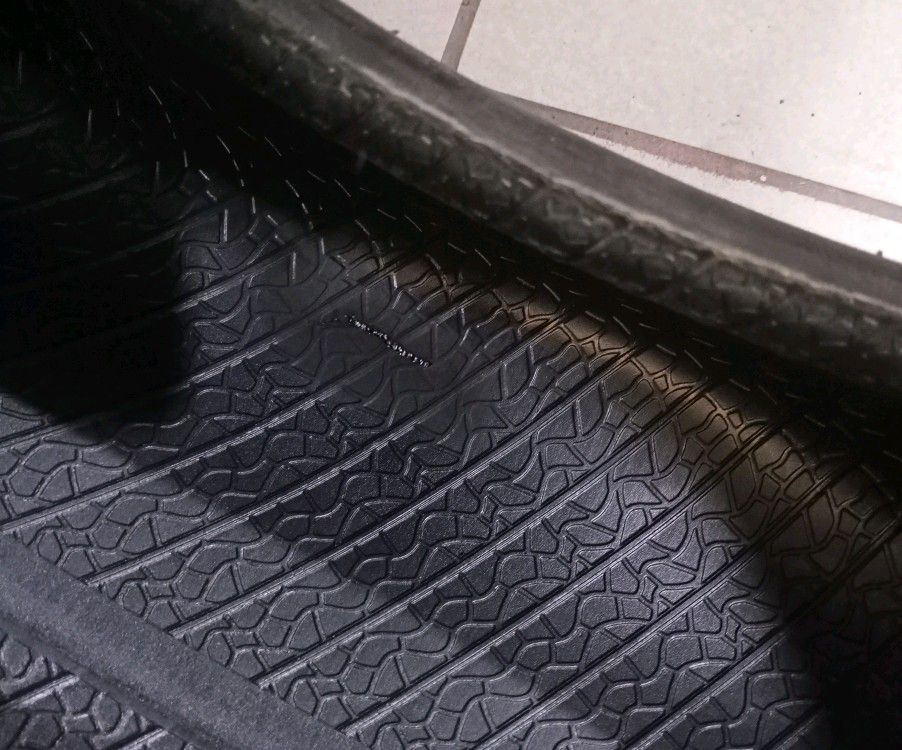CBU: (316, 308, 438, 379)
